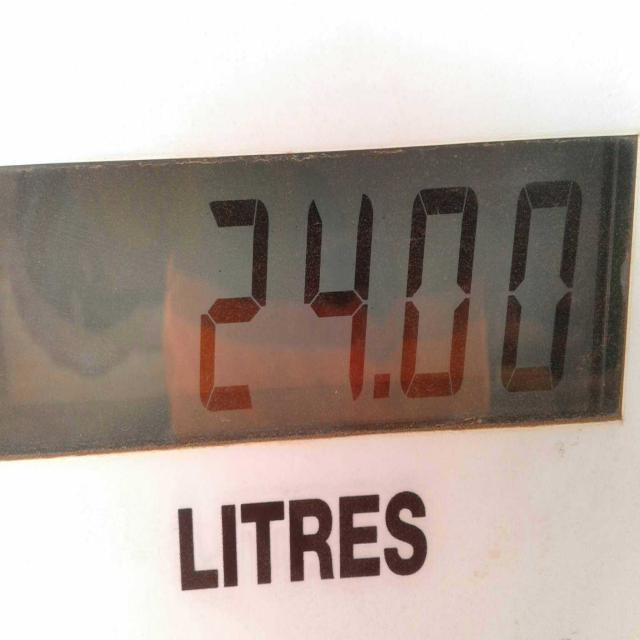.: (367, 351, 391, 424)
0: (398, 179, 482, 421), (499, 170, 583, 402)
2: (184, 178, 272, 422)
4: (285, 179, 376, 416)
